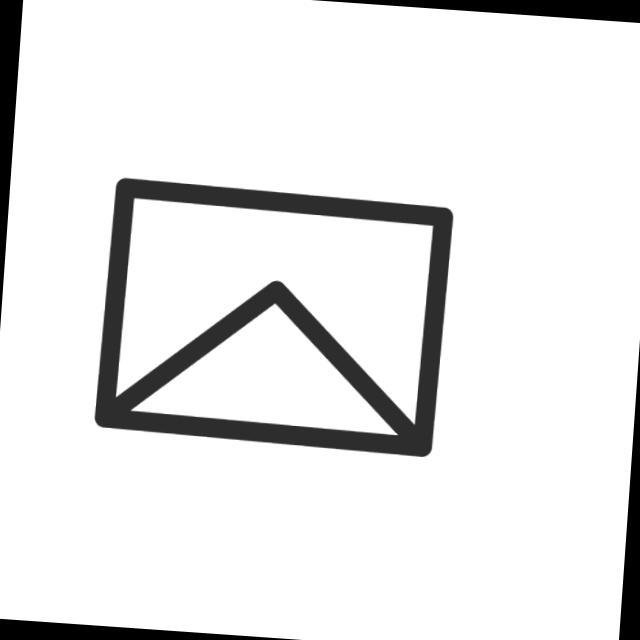letter: (91, 173, 458, 459)
